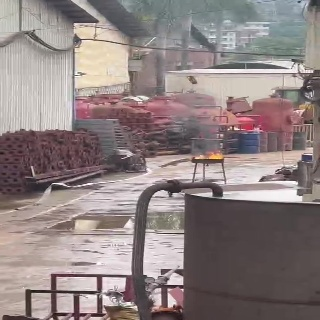fire: (192, 150, 224, 159)
